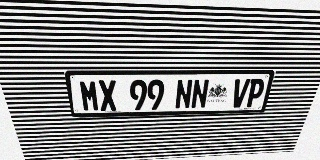9: (147, 79, 165, 110), (130, 80, 147, 110)
M: (78, 80, 100, 112)
N: (190, 79, 210, 109), (175, 79, 193, 109)
P: (245, 79, 266, 107)
V: (230, 79, 251, 108)
X: (97, 80, 117, 111)
